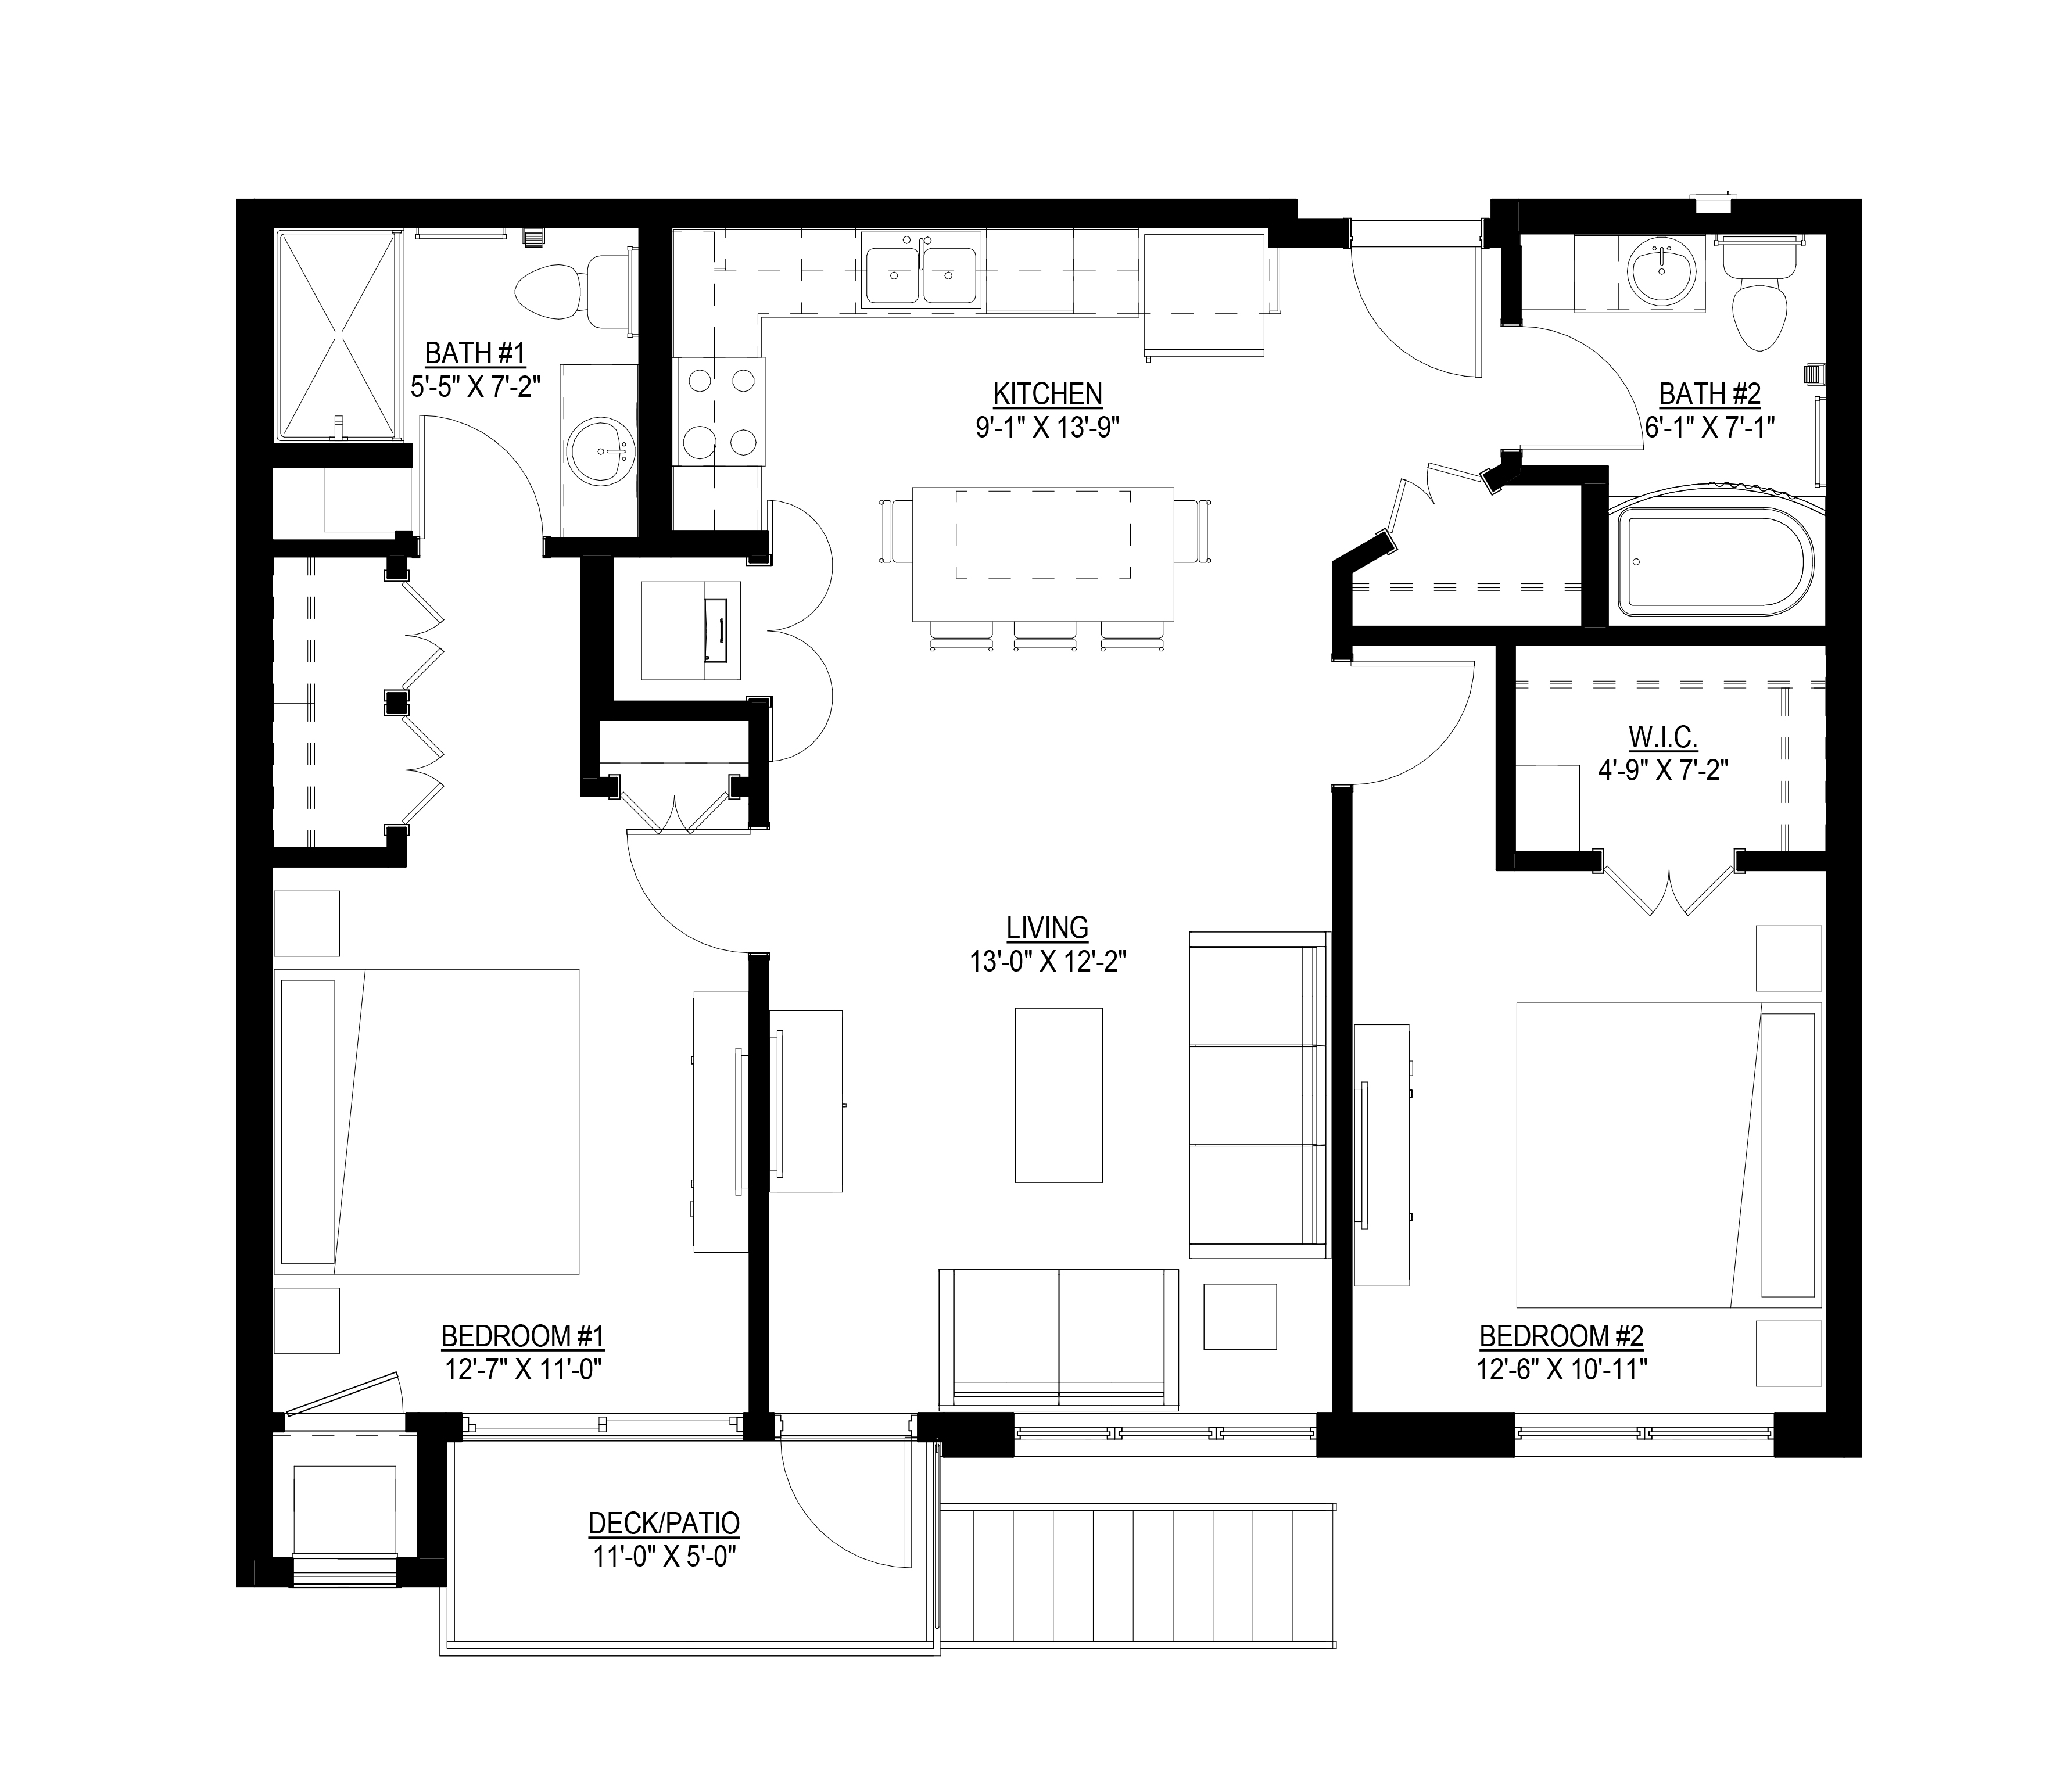door: (1356, 648, 1490, 819), (774, 1445, 920, 1588), (420, 404, 547, 540), (1349, 261, 1494, 380)
window: (1212, 1398, 1325, 1468), (1646, 1414, 1768, 1464), (1607, 872, 1738, 919), (1518, 1414, 1651, 1450), (1013, 1421, 1131, 1459), (1117, 1417, 1229, 1454)
